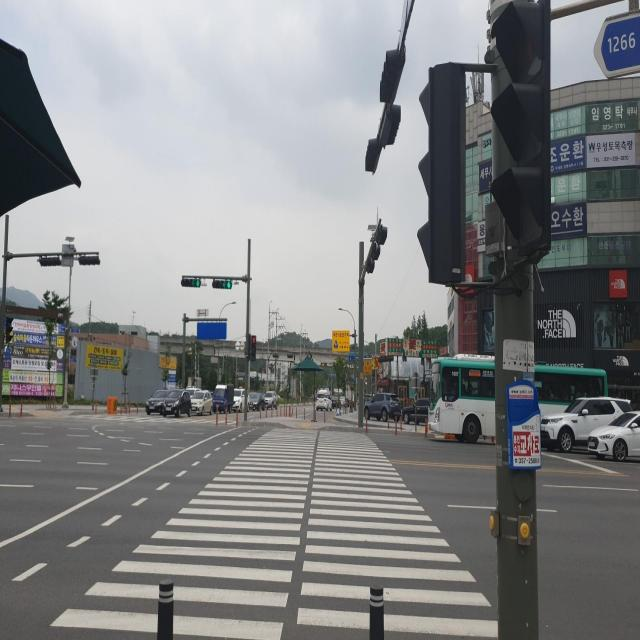횡단보도: (49, 422, 498, 640)
